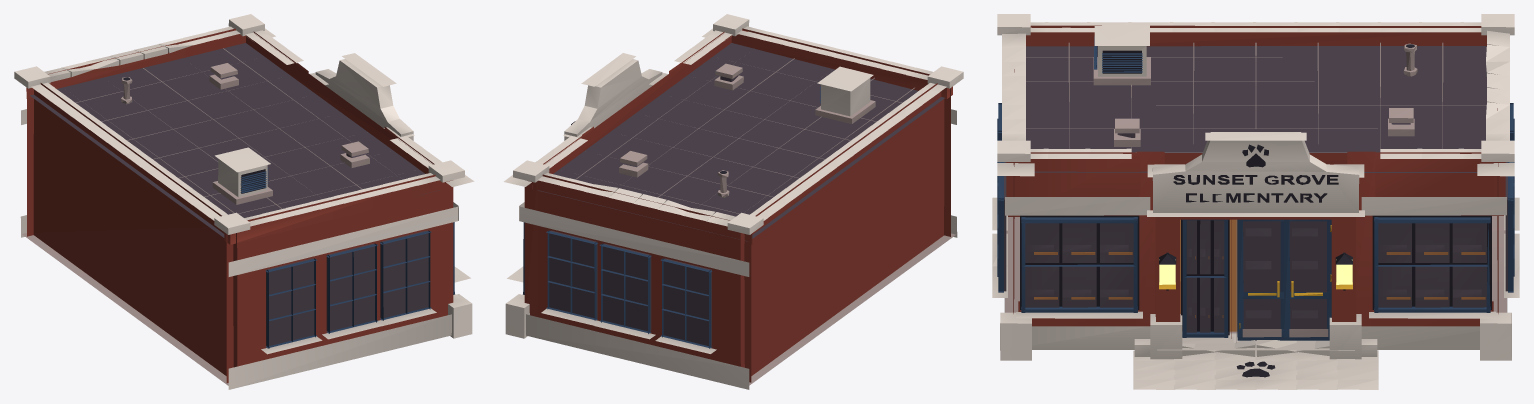
3 renders of one model, left to right at view 1: azimuth 30°, elevation 25°; view 2: azimuth 150°, elevation 25°; view 3: azimuth 270°, elevation 25°, orthographic. The views are drawn at different scales.
Visible parts, largest first — view 1: body_pal_brick, roof_pal_asphalt, body_pal_picketWhite, roof_pal_picketWhite, body_pal_asphalt, roof_pal_brick, roof_pal_sidewalk, body_pal_backpackTeal, body_pal_sidewalk, roof_pal_backpackTeal; view 2: body_pal_brick, roof_pal_asphalt, body_pal_picketWhite, roof_pal_picketWhite, body_pal_asphalt, roof_pal_brick, roof_pal_sidewalk, body_pal_backpackTeal, body_pal_sidewalk; view 3: body_pal_picketWhite, roof_pal_asphalt, body_pal_brick, body_pal_asphalt, roof_pal_picketWhite, body_pal_backpackTeal, body_pal_uiDark, roof_pal_brick, roof_pal_sidewalk, door_L_pal_asphalt, door_R_pal_asphalt, body_pal_sidewalk (+6 smaller).
Boxes of the visible parts, x1,y1,x2,y2 form: body_pal_brick: (27, 28, 453, 382); roof_pal_asphalt: (30, 43, 439, 237); body_pal_picketWhite: (20, 28, 474, 389); roof_pal_picketWhite: (14, 14, 464, 234); body_pal_asphalt: (266, 230, 428, 345); roof_pal_brick: (26, 30, 445, 244); roof_pal_sidewalk: (75, 48, 380, 213); body_pal_backpackTeal: (265, 222, 454, 348); body_pal_sidewalk: (22, 233, 228, 385); roof_pal_backpackTeal: (240, 168, 268, 193); body_pal_brick: (524, 28, 950, 382); roof_pal_asphalt: (538, 43, 944, 241); body_pal_picketWhite: (503, 28, 957, 389); roof_pal_picketWhite: (513, 14, 963, 234); body_pal_asphalt: (549, 230, 711, 345); roof_pal_brick: (532, 30, 952, 244); roof_pal_sidewalk: (575, 58, 914, 213); body_pal_backpackTeal: (523, 222, 712, 348); body_pal_sidewalk: (749, 233, 955, 385); body_pal_picketWhite: (992, 132, 1519, 389); roof_pal_asphalt: (1026, 46, 1486, 172); body_pal_brick: (1006, 25, 1505, 338); body_pal_asphalt: (1004, 162, 1507, 332); roof_pal_picketWhite: (997, 14, 1514, 161); body_pal_backpackTeal: (997, 103, 1514, 337); body_pal_uiDark: (1020, 144, 1491, 377); roof_pal_brick: (1013, 27, 1498, 177); roof_pal_sidewalk: (1026, 42, 1486, 152); door_L_pal_asphalt: (1243, 221, 1280, 328); door_R_pal_asphalt: (1289, 221, 1326, 328); body_pal_sidewalk: (1005, 216, 1506, 333).
Size of the model in its own units: 10.08 by 6 by 12.7.
